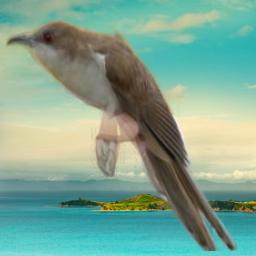Cuckoo: (6, 20, 237, 251), (173, 187, 201, 219)
